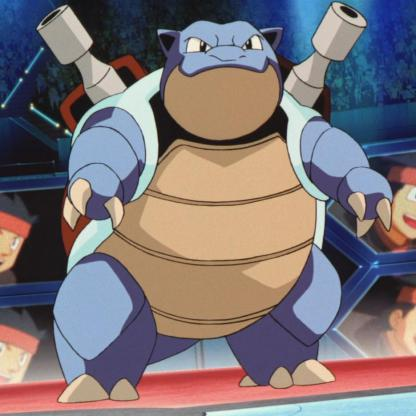Blastoise: (1, 5, 416, 411)
